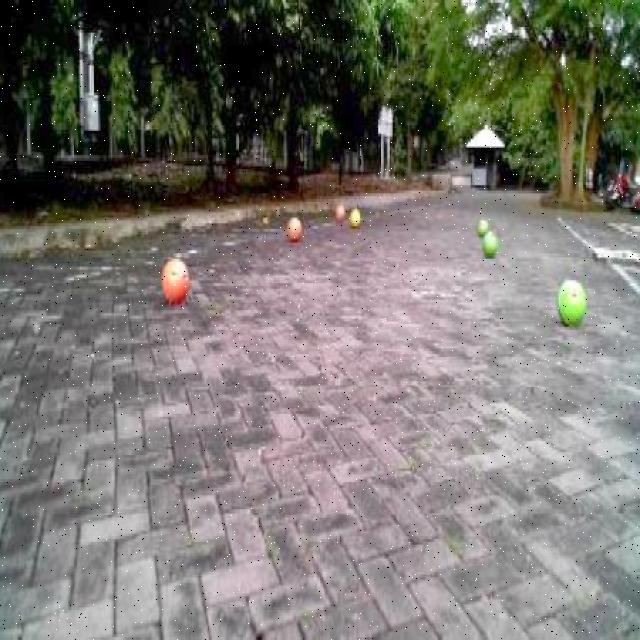buoy: (554, 270, 591, 332), (160, 253, 191, 306), (480, 230, 498, 258), (286, 212, 300, 242)
